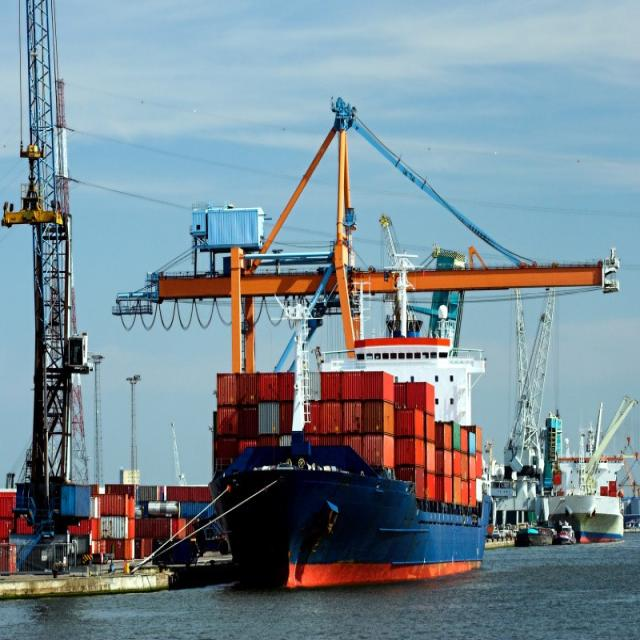cargoship: (215, 310, 494, 585)
